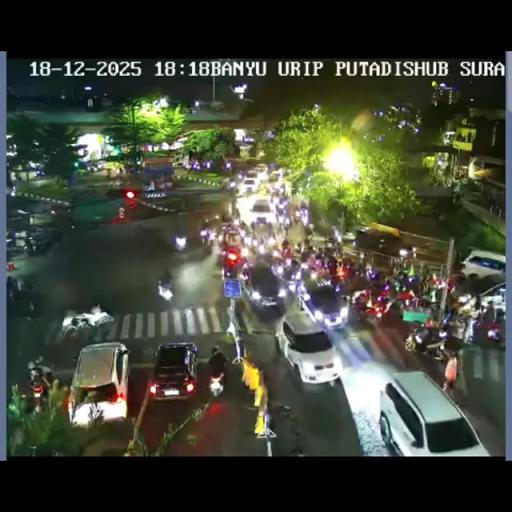Car: (379, 368, 492, 453), (68, 342, 130, 426), (278, 311, 343, 383), (156, 201, 226, 256), (149, 342, 199, 400), (240, 263, 286, 321), (459, 250, 504, 282), (471, 280, 505, 315), (219, 230, 244, 275), (248, 197, 274, 224), (241, 177, 259, 193), (172, 154, 190, 168), (253, 163, 268, 177), (268, 168, 282, 181)
Motorcycle: (405, 322, 449, 356), (57, 313, 92, 343), (446, 352, 466, 399), (424, 272, 454, 302), (90, 304, 113, 342), (26, 373, 48, 410), (393, 270, 420, 298), (6, 275, 32, 302), (231, 299, 249, 336), (370, 278, 394, 304), (306, 264, 332, 288), (285, 267, 306, 294), (350, 260, 374, 282), (157, 278, 174, 308), (208, 367, 224, 397), (270, 258, 292, 279), (442, 303, 458, 327), (274, 203, 290, 225), (294, 202, 308, 226), (339, 256, 354, 278), (350, 290, 367, 307), (325, 235, 340, 254), (199, 227, 211, 245), (24, 236, 36, 254), (326, 256, 337, 275), (274, 182, 287, 198), (300, 248, 313, 264), (230, 202, 240, 222), (241, 264, 252, 282), (256, 239, 268, 255), (266, 222, 276, 240), (239, 220, 250, 236), (282, 244, 292, 260), (226, 178, 237, 192)
